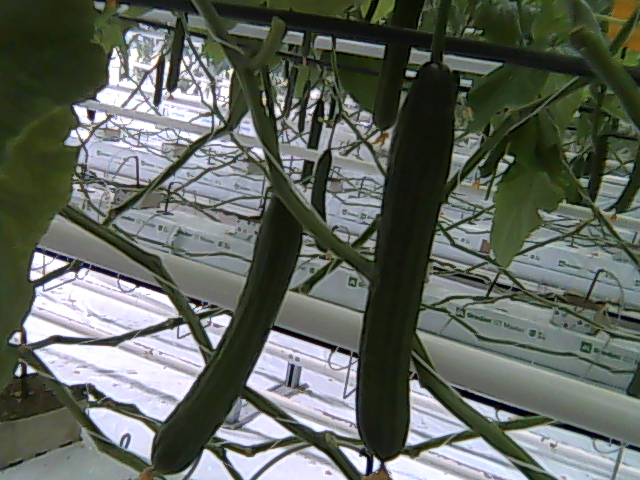concombre: (134, 196, 303, 480), (354, 62, 463, 480)
